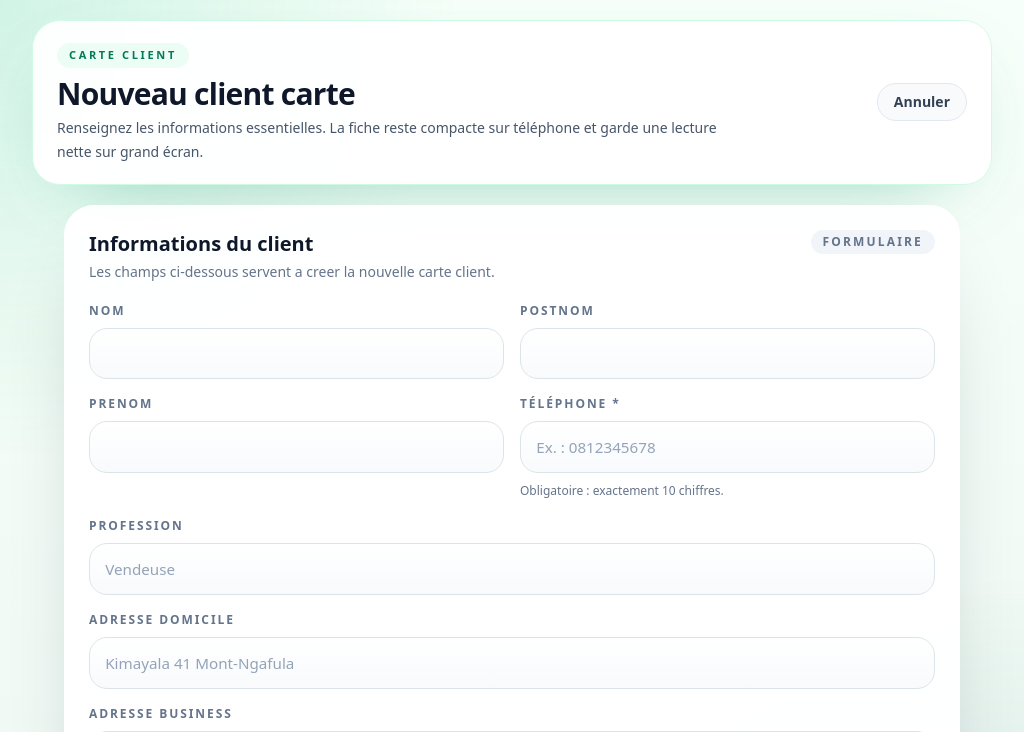
Test: NewCardComponent › continues rendering live validation while the current user is unavailable
The image size is (1024, 732).
Type "081234567" into the field labelled "Téléphone * Obligatoire : exactement 10 chiffres." at (728, 448), box [520,422,935,474]
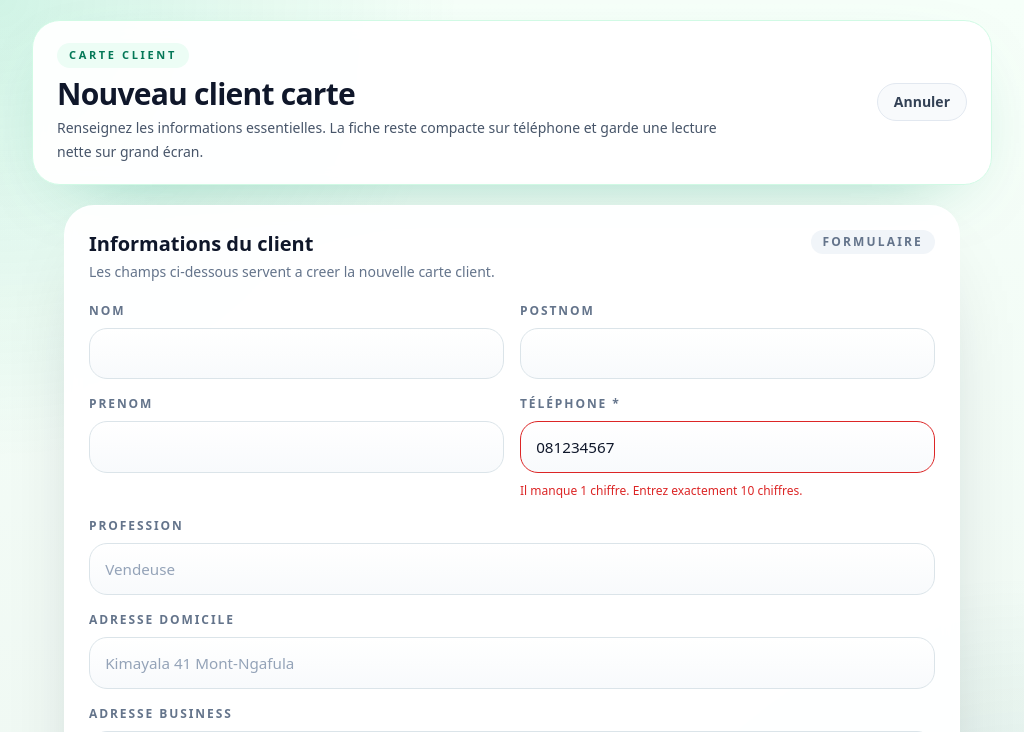
Result: the text "Il manque 1 chiffre. Entrez exactement 10 chiffres." is shown at [520,482,802,499]
